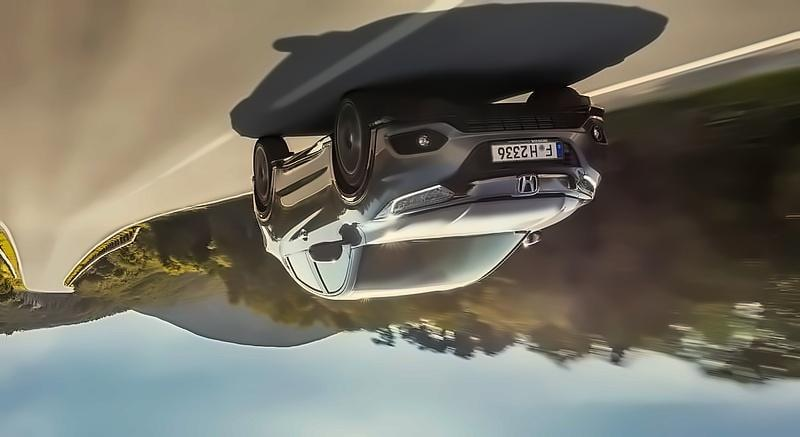Car hood: (358, 196, 594, 245)
Fender - -F-L-: (328, 124, 386, 245)
Front bumper: (365, 102, 609, 177)
Headlight - -L-: (370, 180, 457, 223)
Headlight - -R-: (565, 172, 602, 208)
Passenger-s door - -F-L-: (300, 134, 363, 302)
Passenger-s door - -R-L-: (272, 156, 328, 300)
Side bumper - -L-: (264, 131, 336, 178)
Side mirror - -L-: (304, 234, 351, 265)
Side mirror - -R-: (521, 227, 546, 256)
